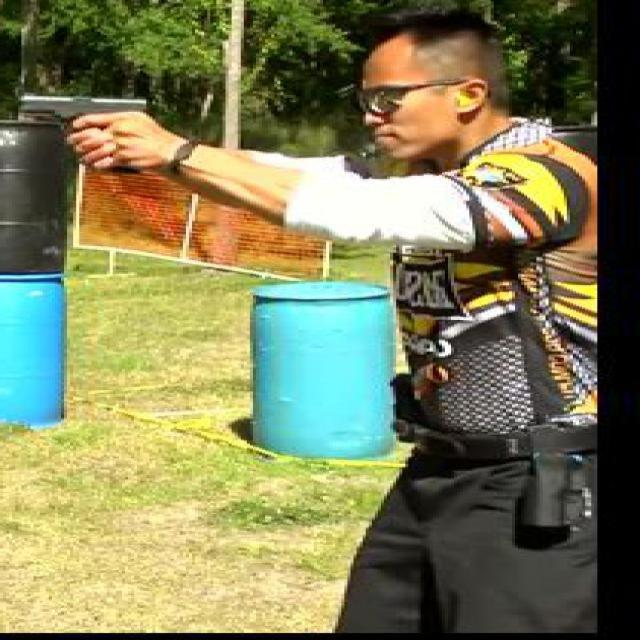weapon: (14, 90, 149, 174)
